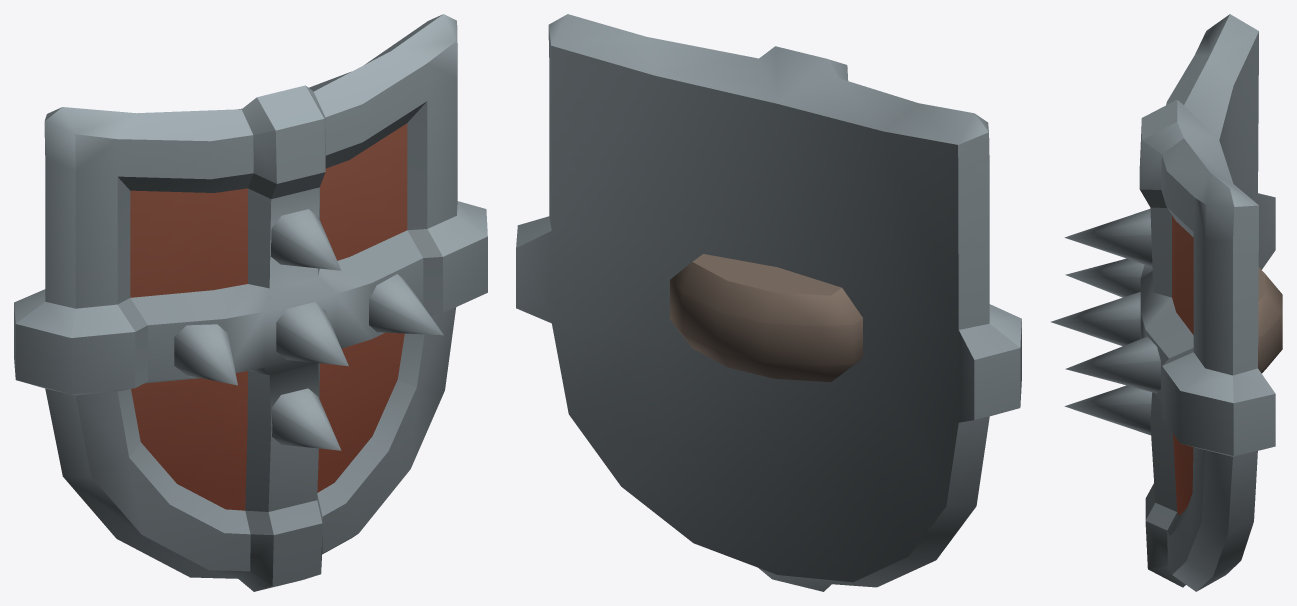
3 views of the same model, side by side, from view 1: azimuth 30°, elevation 25°; view 2: azimuth 150°, elevation 25°; view 3: azimuth 270°, elevation 25° (orthographic). The views are drawn at different scales.
Visible parts, largest first — view 1: shield_spikes; view 2: shield_spikes; view 3: shield_spikes.
Part boxes in pixels (box(x1,y1,x2,y2)): shield_spikes: box(14, 14, 487, 591); shield_spikes: box(516, 14, 1021, 591); shield_spikes: box(1051, 14, 1282, 591).
Size of the model in its own units: 1.01 by 1.04 by 0.4598.
1 material, 1 textured.
